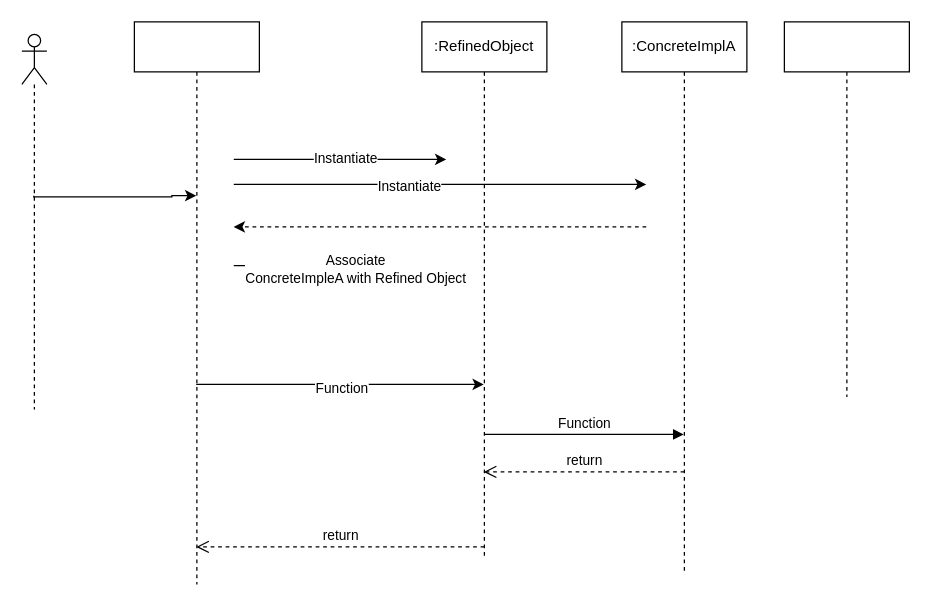
The diagram is 931 pixels wide and 606 high, and some of its shapes have lost their labels. The shapes that lost their labels are listed below. From the top down, each one's box as (x1, y1, x2, y2) in pixels, then its label:
(783, 21, 909, 397): :ConcreteImplB
(133, 21, 259, 584): :Client
